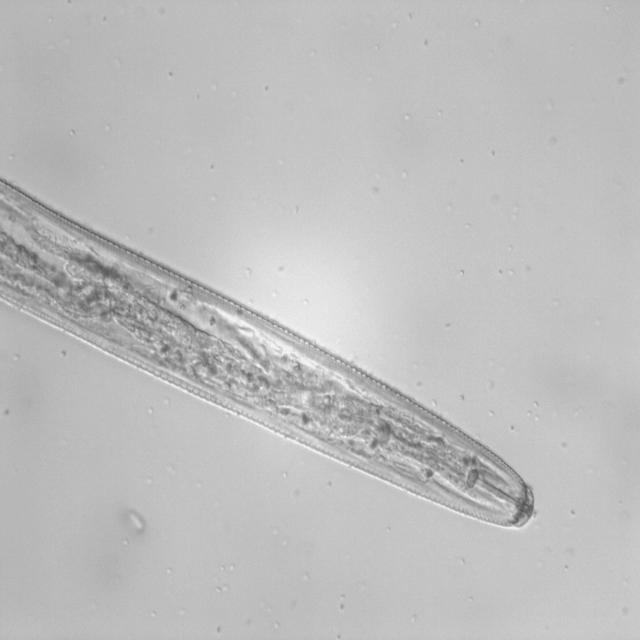Radopholus: (0, 179, 540, 548)
